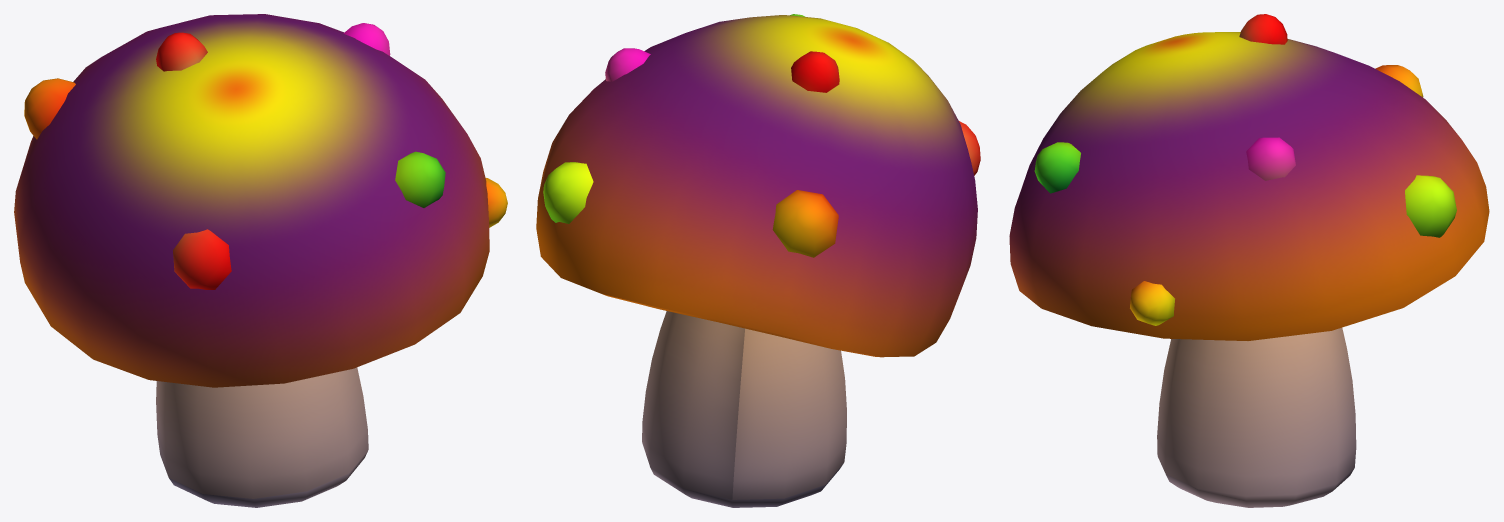
File: FatMushroom001.FBX
3 renders of one model, left to right at view 1: azimuth 30°, elevation 25°; view 2: azimuth 150°, elevation 25°; view 3: azimuth 270°, elevation 25°, orthographic. The views are drawn at different scales.
Parts seen in each view (by area): view 1: FatMushroom001; view 2: FatMushroom001; view 3: FatMushroom001.
Boxes of the visible parts, left/top/right/bottom form: FatMushroom001: left=14, top=14, right=507, bottom=507; FatMushroom001: left=536, top=14, right=980, bottom=507; FatMushroom001: left=1009, top=14, right=1489, bottom=507.
Size of the model in its own units: 19 by 21.38 by 21.08.
